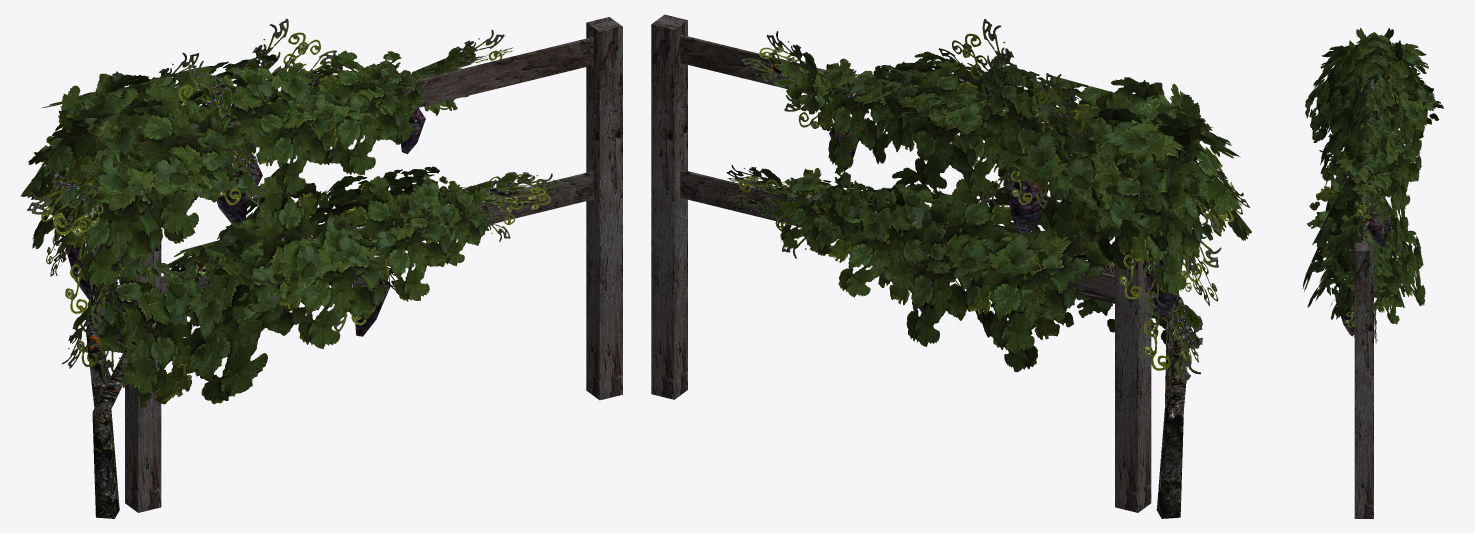
File: vine.glb
The picture shows the model from 3 angles, left to right: view 1: azimuth 30°, elevation 25°; view 2: azimuth 150°, elevation 25°; view 3: azimuth 270°, elevation 25°; orthographic projection. The views are drawn at different scales.
Bounding box in the file's own units: 77.12 × 57.02 × 27.41.
1 material, 1 textured.
